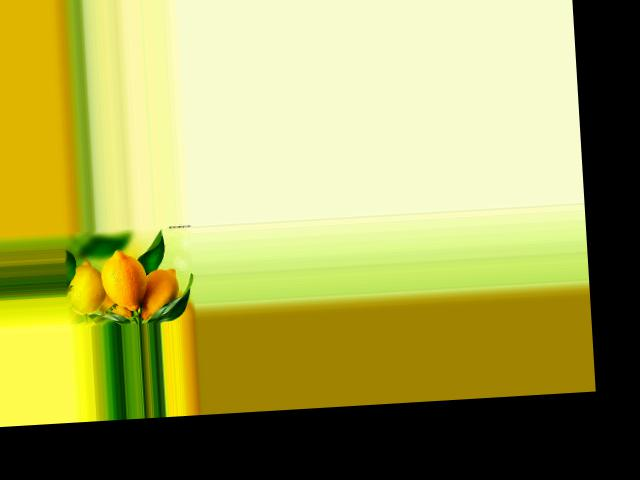lemon: (68, 256, 106, 318)
